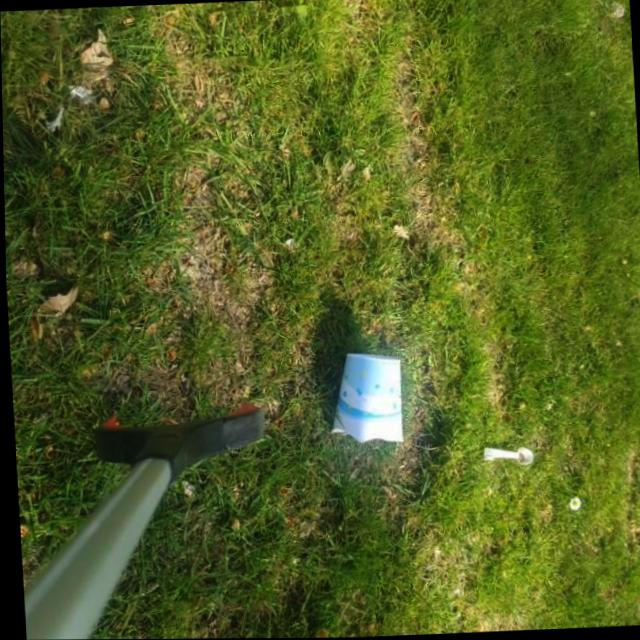Paper: (322, 351, 403, 446)
